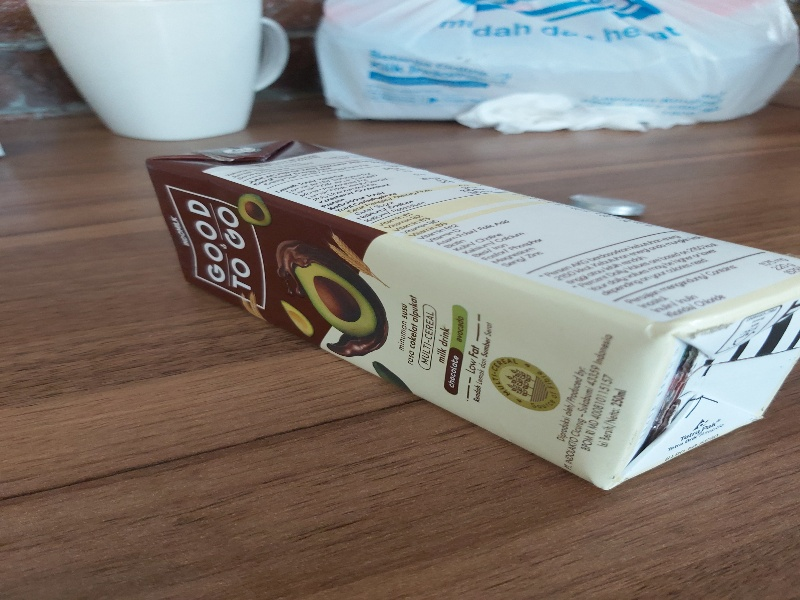cokelat: (135, 139, 800, 492)
